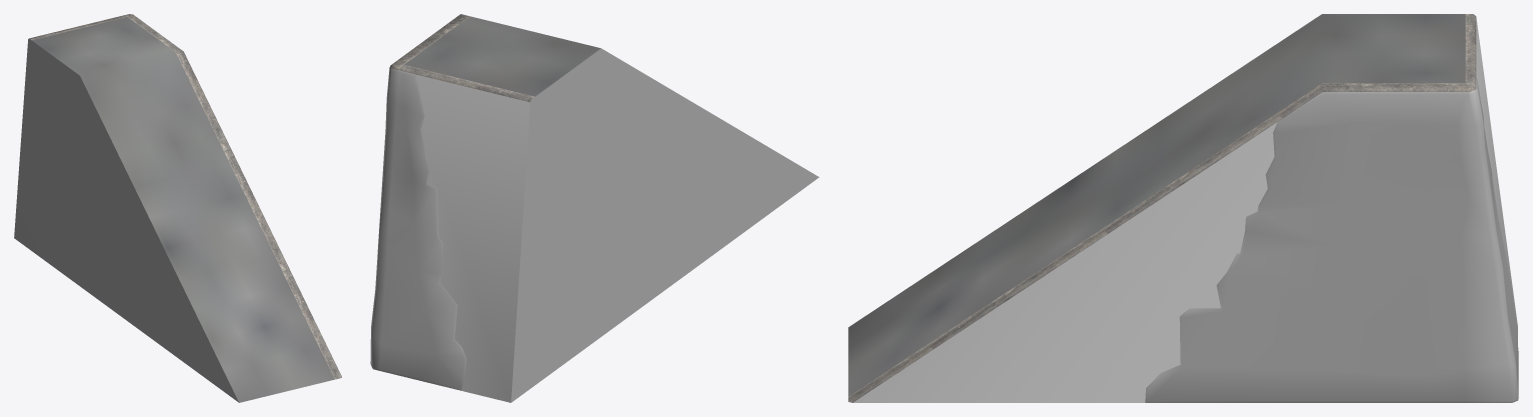
File: JpHouseJ_StoneWall_slope02l.fbx
3 renders of one model, left to right at view 1: azimuth 30°, elevation 25°; view 2: azimuth 150°, elevation 25°; view 3: azimuth 270°, elevation 25°, orthographic. The views are drawn at different scales.
Visible parts, largest first — view 1: JpHouseJ_StoneWall_slope02l; view 2: JpHouseJ_StoneWall_slope02l; view 3: JpHouseJ_StoneWall_slope02l.
Part boxes in pixels (x1,y1,x2,y2): JpHouseJ_StoneWall_slope02l: [14, 14, 341, 402]; JpHouseJ_StoneWall_slope02l: [370, 14, 819, 402]; JpHouseJ_StoneWall_slope02l: [848, 14, 1518, 402].
Bounding box in the file's own units: 2.14 × 4.08 × 7.91.
